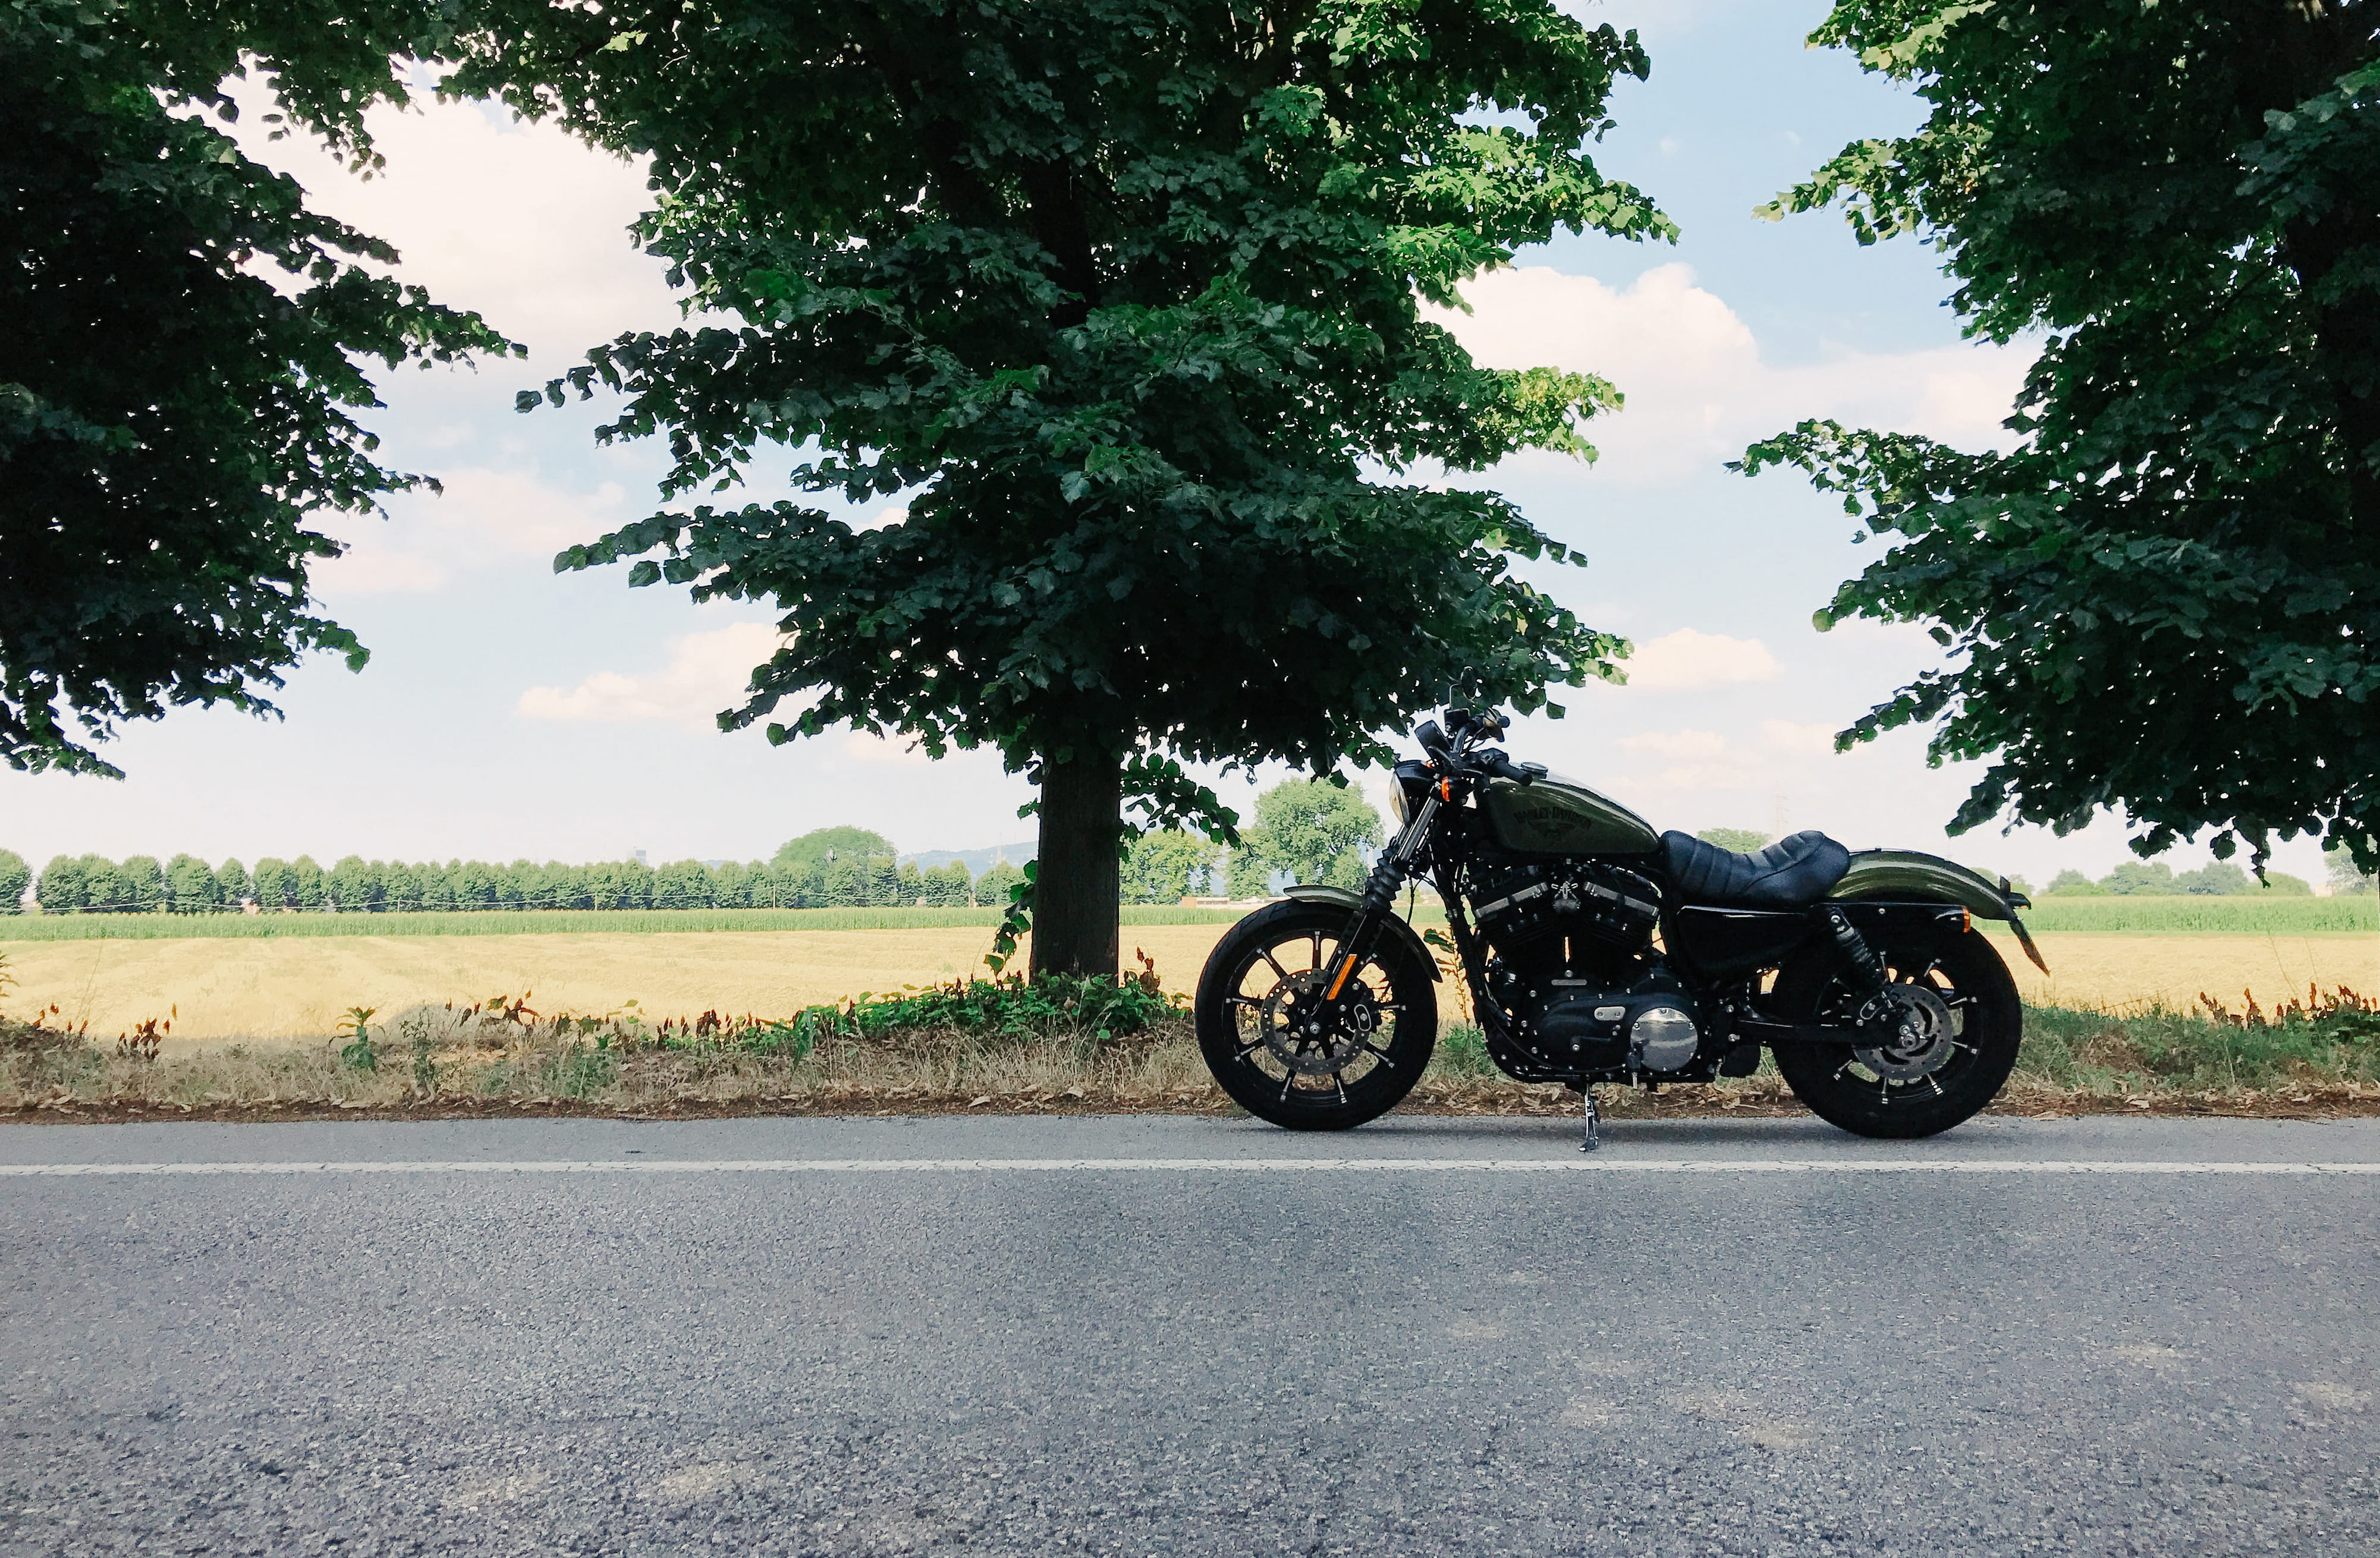CruiserBike: (1189, 682, 2060, 1130)
